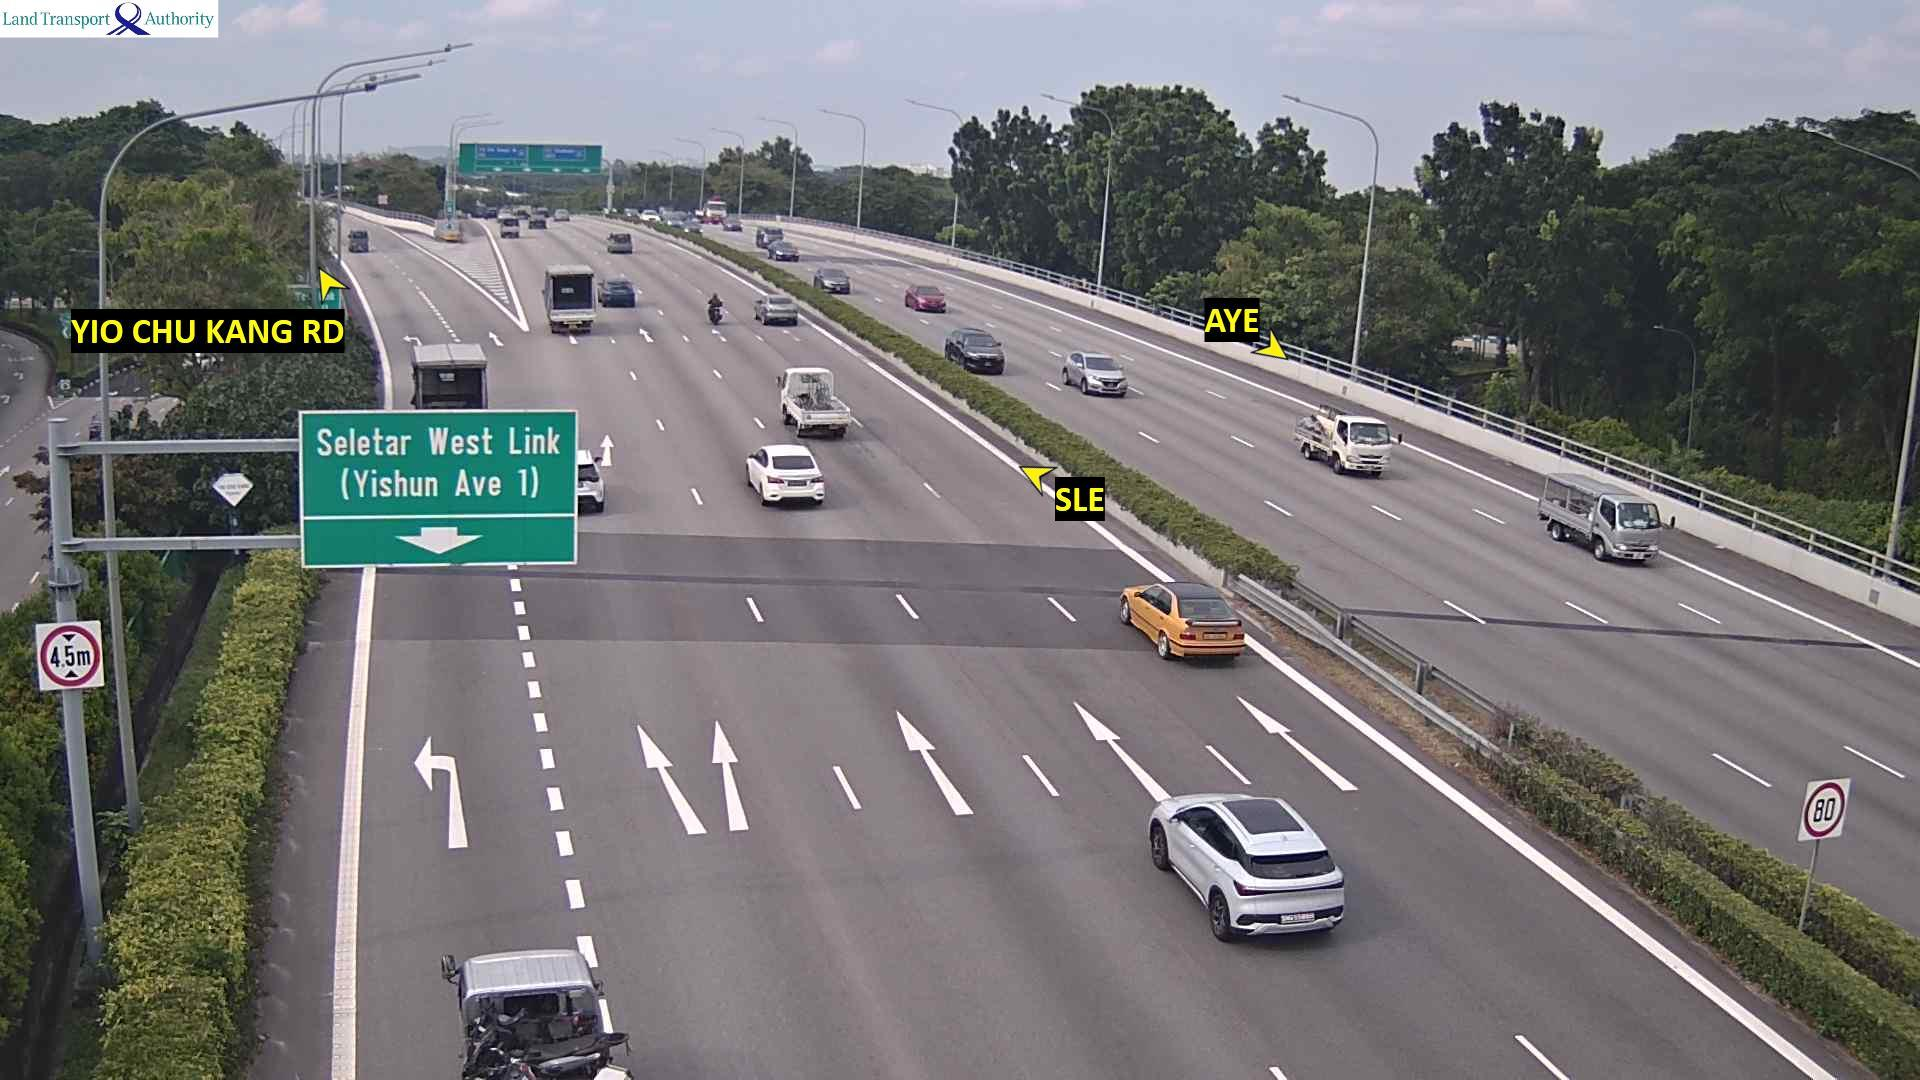cars: (1147, 791, 1345, 942), (439, 947, 632, 1077), (1117, 579, 1245, 659), (774, 365, 851, 438), (745, 442, 825, 505), (943, 324, 1005, 375), (1062, 349, 1127, 396), (575, 448, 604, 513), (753, 293, 798, 324), (903, 284, 945, 313), (597, 276, 636, 307), (814, 266, 849, 293), (767, 240, 799, 261), (607, 229, 632, 253), (498, 215, 520, 237), (679, 220, 705, 237), (662, 212, 684, 229), (638, 207, 661, 224), (527, 211, 547, 228), (621, 206, 644, 220), (721, 216, 742, 231), (553, 207, 571, 223), (513, 207, 531, 222), (484, 204, 500, 220)
motorcycle: (707, 301, 724, 324)
trucks: (1536, 472, 1662, 564), (1292, 404, 1396, 477), (406, 338, 487, 409), (541, 262, 596, 334), (692, 193, 729, 227), (347, 228, 368, 252)
